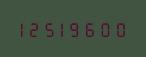five: (45, 20, 58, 37)
nine: (73, 20, 86, 37)
one: (17, 20, 30, 37), (59, 20, 72, 37)
six: (87, 20, 100, 37)
two: (31, 20, 44, 37)
zero: (101, 20, 114, 37), (115, 20, 128, 37)
